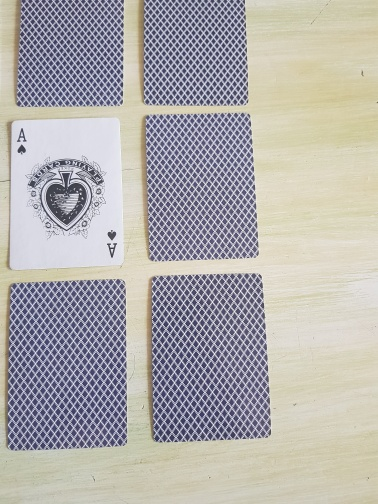ace: (8, 117, 126, 272)
